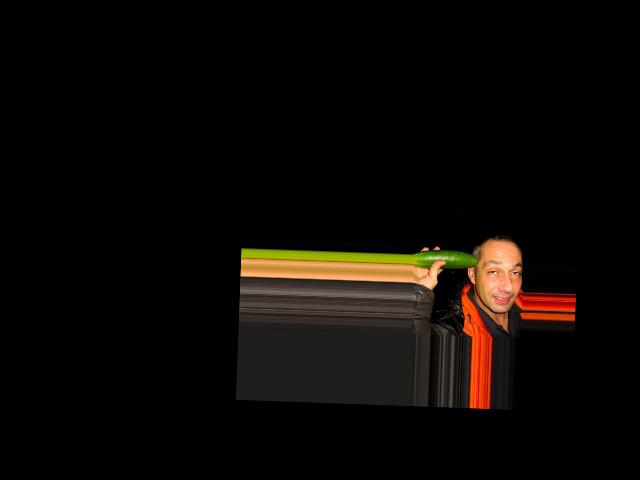cucumber: (412, 249, 479, 270)
